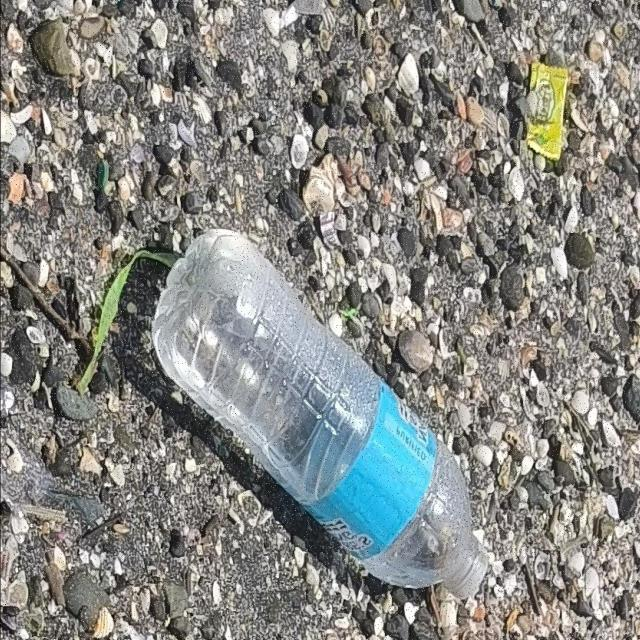plastic_waste: (149, 226, 491, 603), (525, 61, 571, 165)
